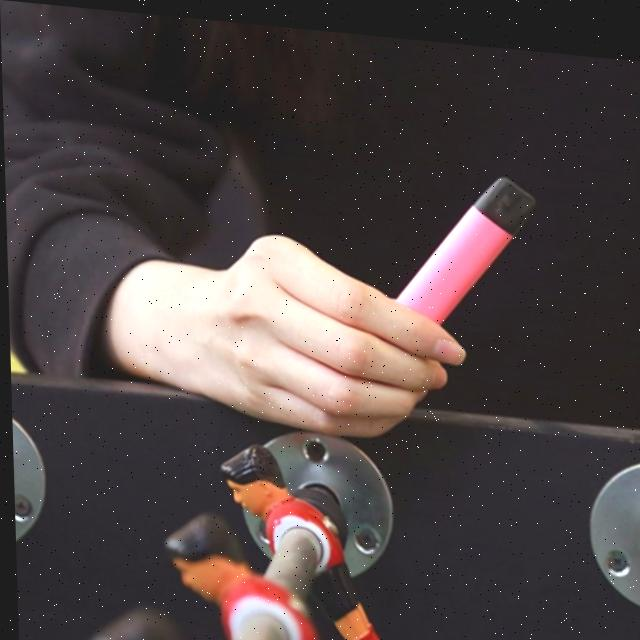vape: (388, 156, 542, 326)
